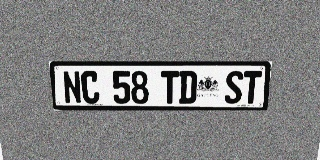5: (112, 71, 131, 104)
8: (131, 71, 149, 104)
C: (80, 71, 100, 104)
D: (179, 71, 197, 104)
N: (62, 71, 82, 104)
S: (224, 71, 244, 104)
T: (242, 71, 262, 104), (161, 71, 179, 104)
